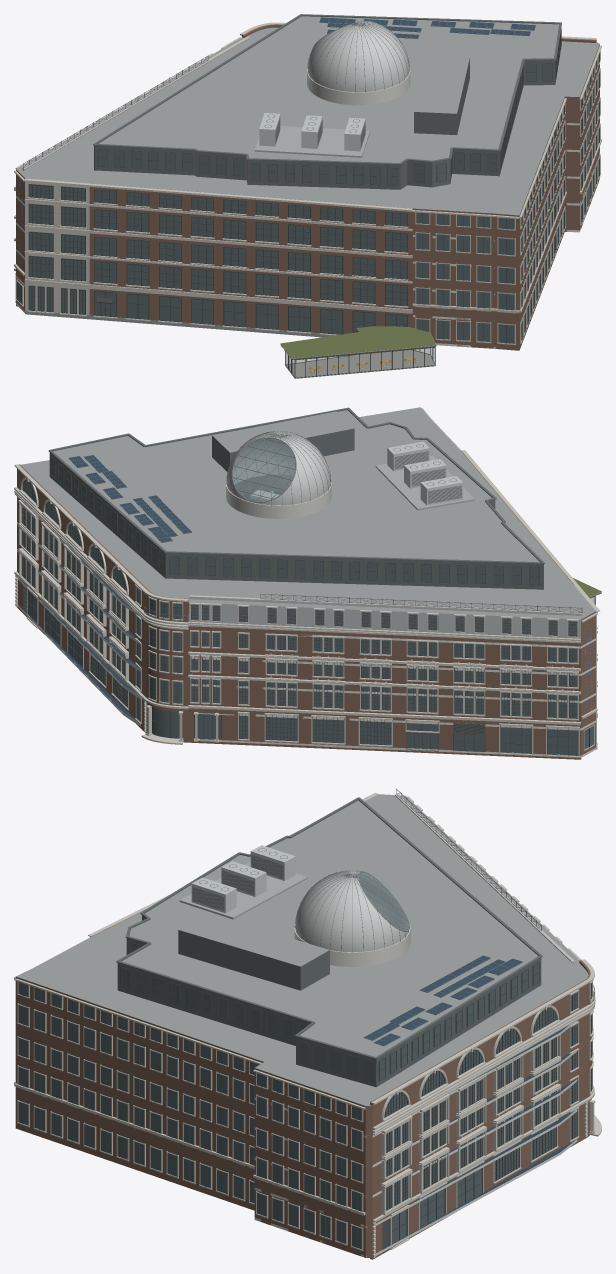
File: lrb-exterior-c720e94e7709.glb
The picture shows the model from 3 angles, top to bottom: view 1: azimuth 30°, elevation 25°; view 2: azimuth 150°, elevation 25°; view 3: azimuth 270°, elevation 25°; orthographic projection. The views are drawn at different scales.
Parts seen in each view (by area): view 1: LRB.001; view 2: LRB.001; view 3: LRB.001.
Boxes of the visible parts, x1,y1,x2,y2 form: LRB.001: (14, 14, 601, 378); LRB.001: (14, 407, 601, 759); LRB.001: (14, 788, 601, 1259).
Bounding box in the file's own units: 89.68 × 33.13 × 70.98.
